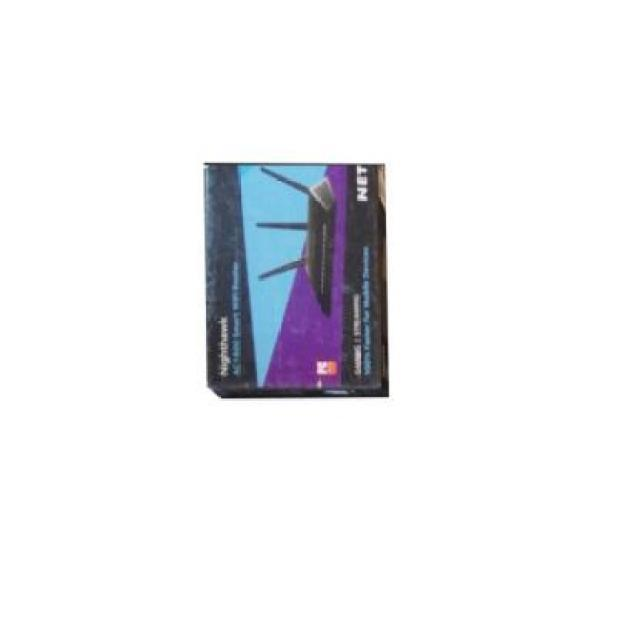box: (204, 168, 388, 397)
